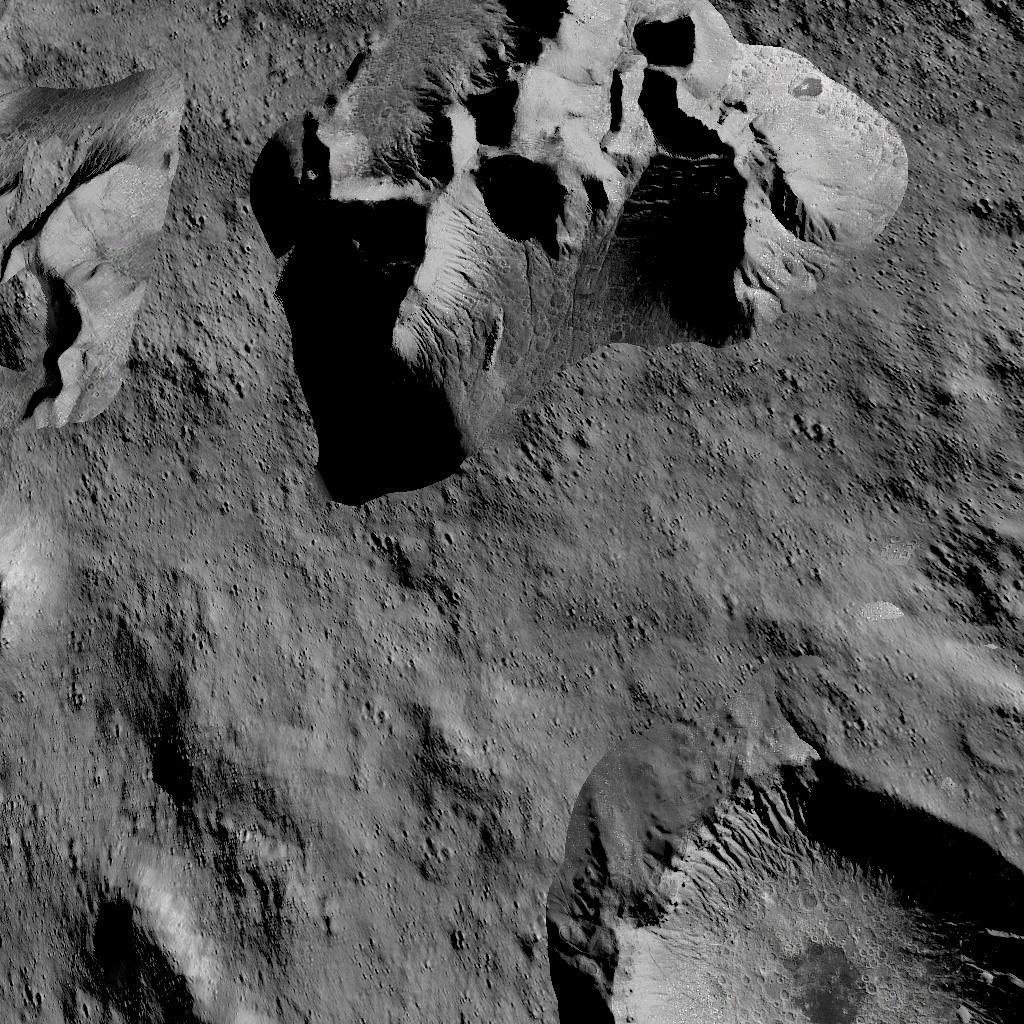Boulders: (246, 0, 916, 502), (0, 64, 195, 430)
Crater: (569, 738, 1024, 1022), (0, 523, 55, 692)
Plan surface: (267, 514, 964, 728), (280, 748, 551, 1024)
